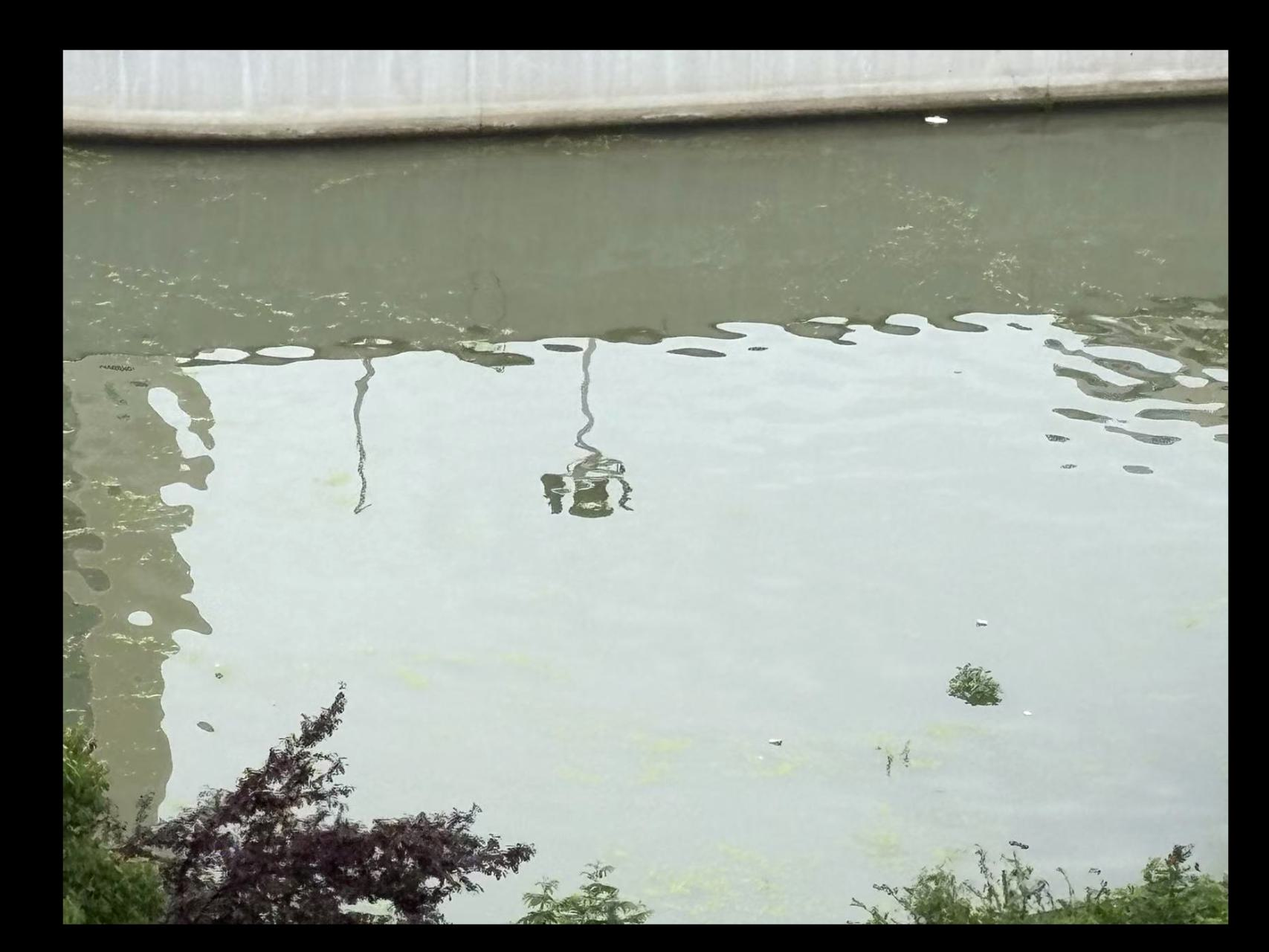Natural wastes: (949, 663, 1001, 705)
Plastic wastes: (925, 113, 949, 124), (769, 737, 781, 746), (978, 619, 987, 624), (1022, 711, 1030, 715)
